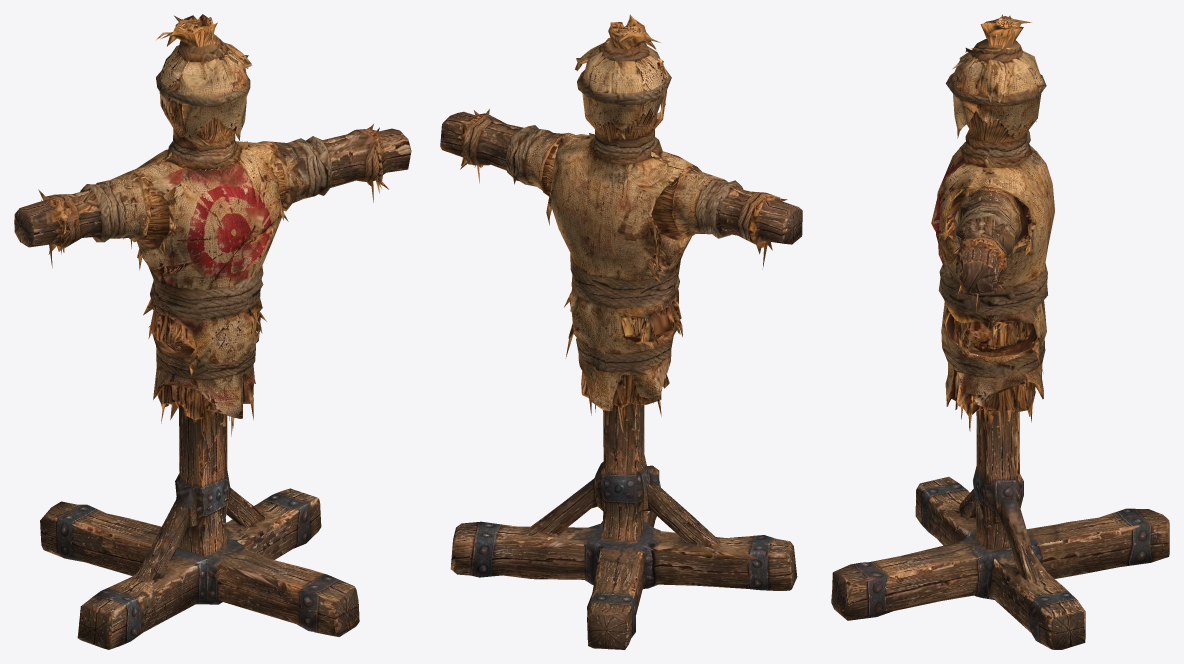
File: boneco.glb
3 renders of one model, left to right at view 1: azimuth 30°, elevation 25°; view 2: azimuth 150°, elevation 25°; view 3: azimuth 270°, elevation 25°, orthographic. The views are drawn at different scales.
Parts seen in each view (by area): view 1: boneco; view 2: boneco; view 3: boneco.
Boxes of the visible parts, x1=… form: boneco: x1=14, y1=14, x2=411, y2=649; boneco: x1=440, y1=14, x2=802, y2=649; boneco: x1=831, y1=14, x2=1169, y2=649.
Bounding box in the file's own units: 1.29 × 1.9 × 1.04.
Materials: 1 (1 with a texture image).
